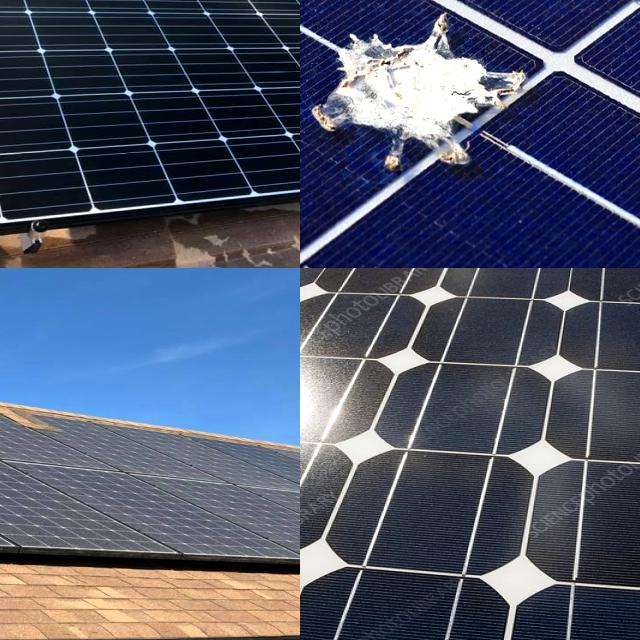bird: (312, 4, 540, 182)
crack: (300, 268, 640, 640), (0, 0, 300, 268)
dust: (68, 479, 272, 538), (0, 464, 108, 533)
